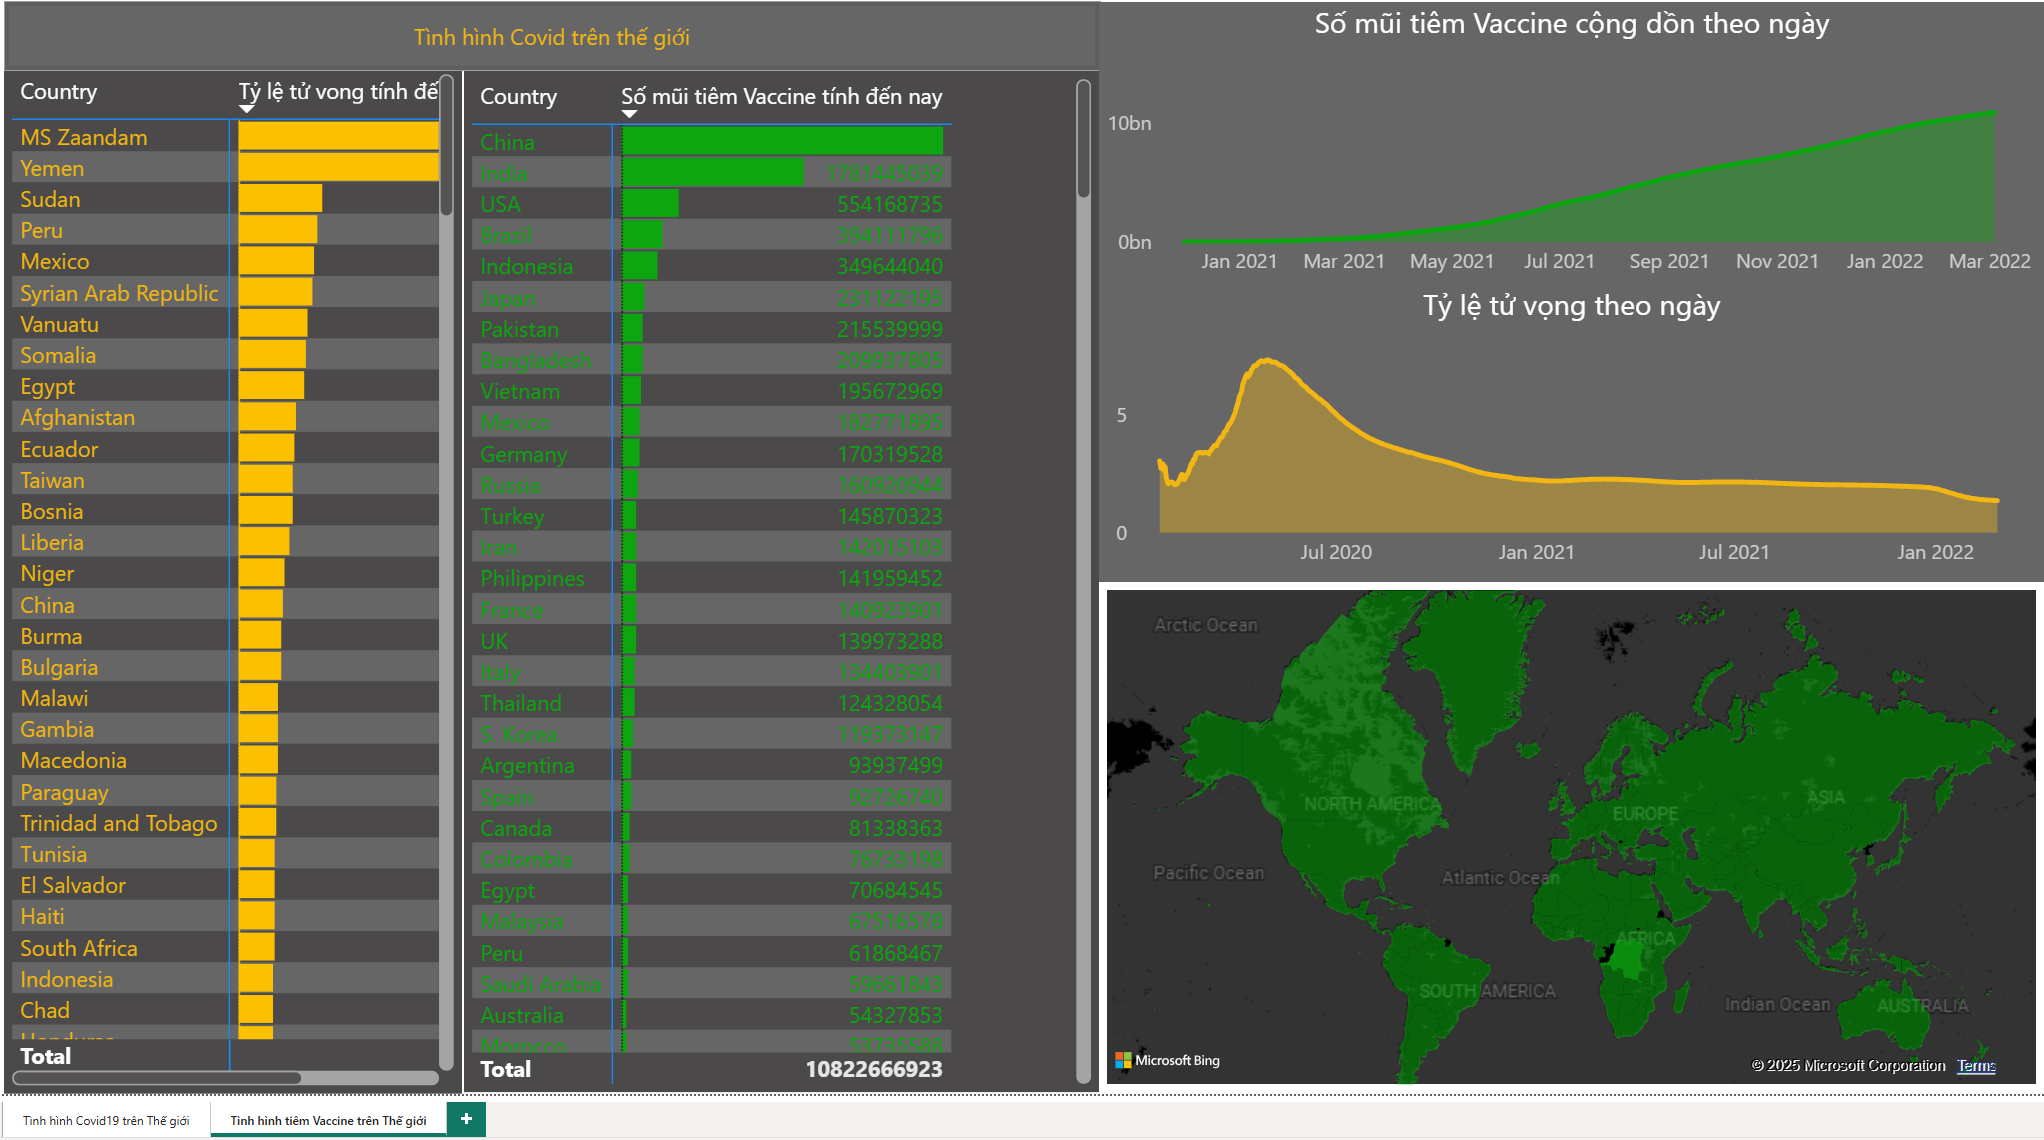

Layout of this report page (visuals, bound fields, positions):
{"tool":"powerbi","page":{"name":"Tình hình tiêm Vaccine trên Thế giới","canvas":[1280,720],"ordinal":1},"visuals":[{"type":"pivotTable","fields":{"Values":["Measure.Tỷ lệ tử vong tính đến nay (%)"],"Rows":["Covid19.Country"]},"box":[26.7,94.1,278.5,626.2],"z":0},{"type":"pivotTable","fields":{"Rows":["Vaccine.Country"],"Values":["Measure.Số mũi tiêm Vaccine tính đến nay"]},"box":[307.1,96.8,387.3,622.2],"z":1000},{"type":"actionButton","box":[26.7,54.4,667.7,42.4],"z":2000},{"type":"stackedAreaChart","title":"Số mũi tiêm Vaccine cộng dồn theo ngày","fields":{"Y":["Measure.Số mũi tiêm Vaccine tính đến nay"],"Category":["Vaccine.Date.Variation.Date Hierarchy.Year","Vaccine.Date.Variation.Date Hierarchy.Quarter","Vaccine.Date.Variation.Date Hierarchy.Month","Vaccine.Date.Variation.Date Hierarchy.Day"]},"box":[693.5,54.6,576.4,176.2],"z":3000},{"type":"stackedAreaChart","title":"Tỷ lệ tử vọng theo ngày","fields":{"Y":["Measure.Tỷ lệ tử vong tính đến nay (%)"],"Category":["Covid19.Date"]},"box":[703.6,225.2,576.4,181.7],"z":4000},{"type":"filledMap","fields":{"Category":["Vaccine.Country"]},"box":[693.5,408.1,576.4,311.1],"z":5000}]}

Visuals, with their boxes on the page's 1280x720 design canvas (x1, y1, x2, y2). These are canvas units, not pixel positions in the 2044x1140 screenshot, which may show the page scaled, cropped or inside an application window:
pivotTable - Measure.Tỷ lệ tử vong tính đến nay (%) x Covid19.Country: <region>27, 94, 305, 720</region>
pivotTable - Vaccine.Country x Measure.Số mũi tiêm Vaccine tính đến nay: <region>307, 97, 694, 719</region>
actionButton: <region>27, 54, 694, 97</region>
"Số mũi tiêm Vaccine cộng dồn theo ngày" stackedAreaChart: <region>694, 55, 1270, 231</region>
"Tỷ lệ tử vọng theo ngày" stackedAreaChart: <region>704, 225, 1280, 407</region>
filledMap - Vaccine.Country: <region>694, 408, 1270, 719</region>
